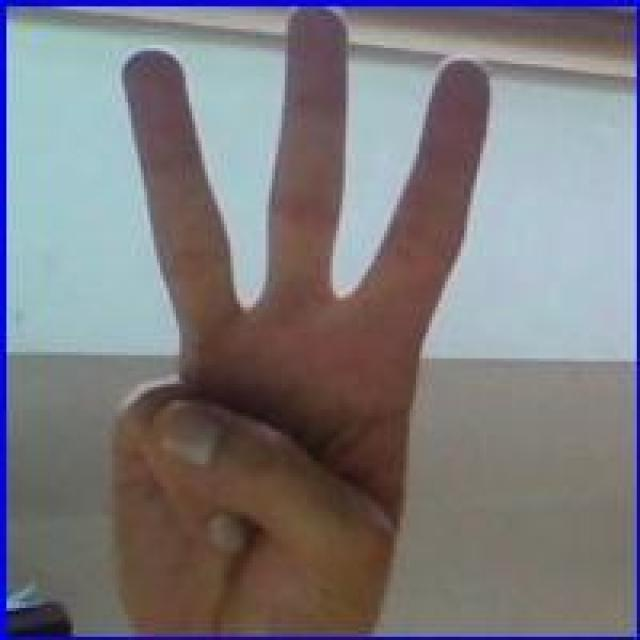W: (112, 9, 493, 640)
